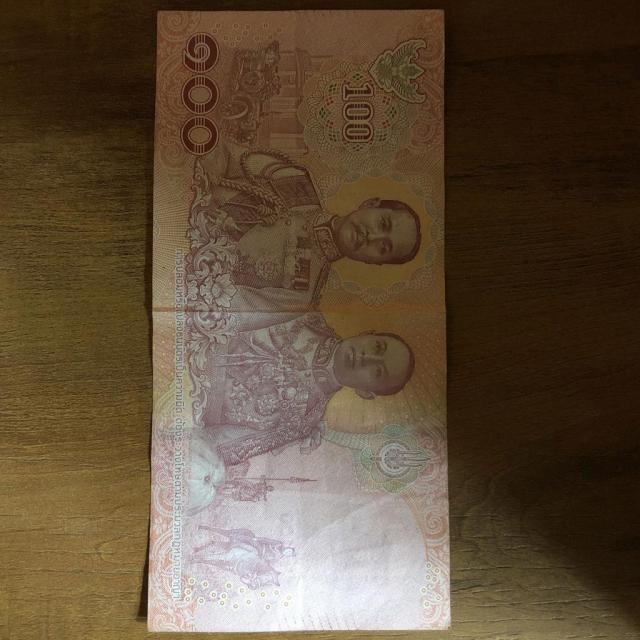THAI100: (148, 11, 450, 632)
